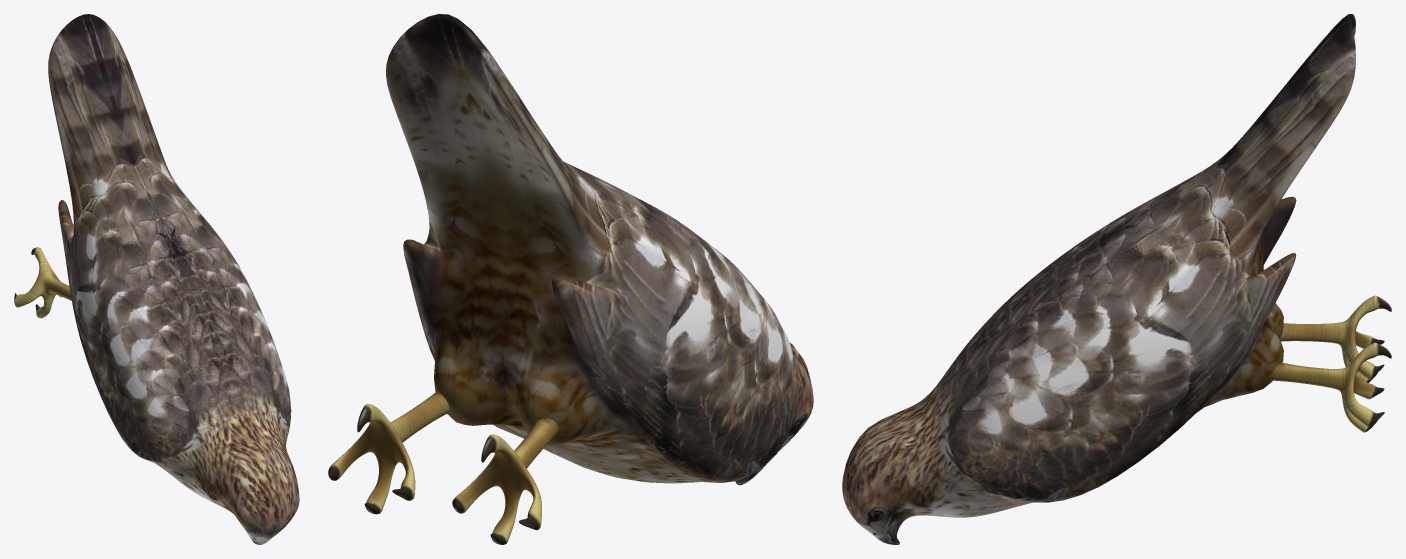
Rendered from hawk.glb.
3 renders of one model, left to right at view 1: azimuth 30°, elevation 25°; view 2: azimuth 150°, elevation 25°; view 3: azimuth 270°, elevation 25°, orthographic. The views are drawn at different scales.
Parts seen in each view (by area): view 1: hawk; view 2: hawk; view 3: hawk.
Part boxes in pixels (x1=…): hawk: x1=14, y1=14, x2=299, y2=544; hawk: x1=328, y1=14, x2=813, y2=544; hawk: x1=842, y1=14, x2=1391, y2=544.
Bounding box in the file's own units: 13.13 × 33.18 × 31.3.
Materials: 1 (1 with a texture image).
